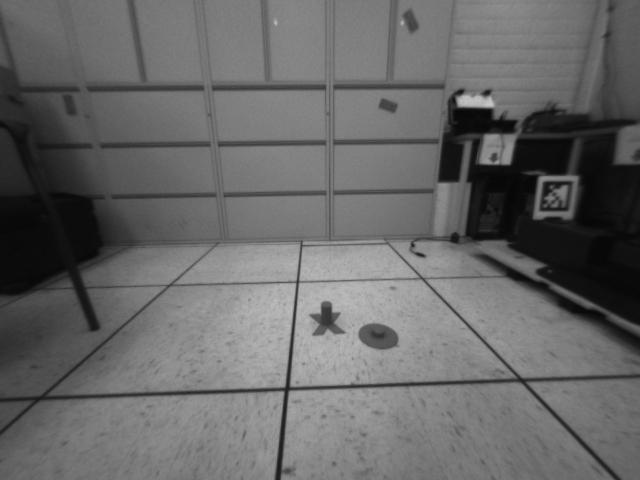X: (308, 300, 346, 337)
